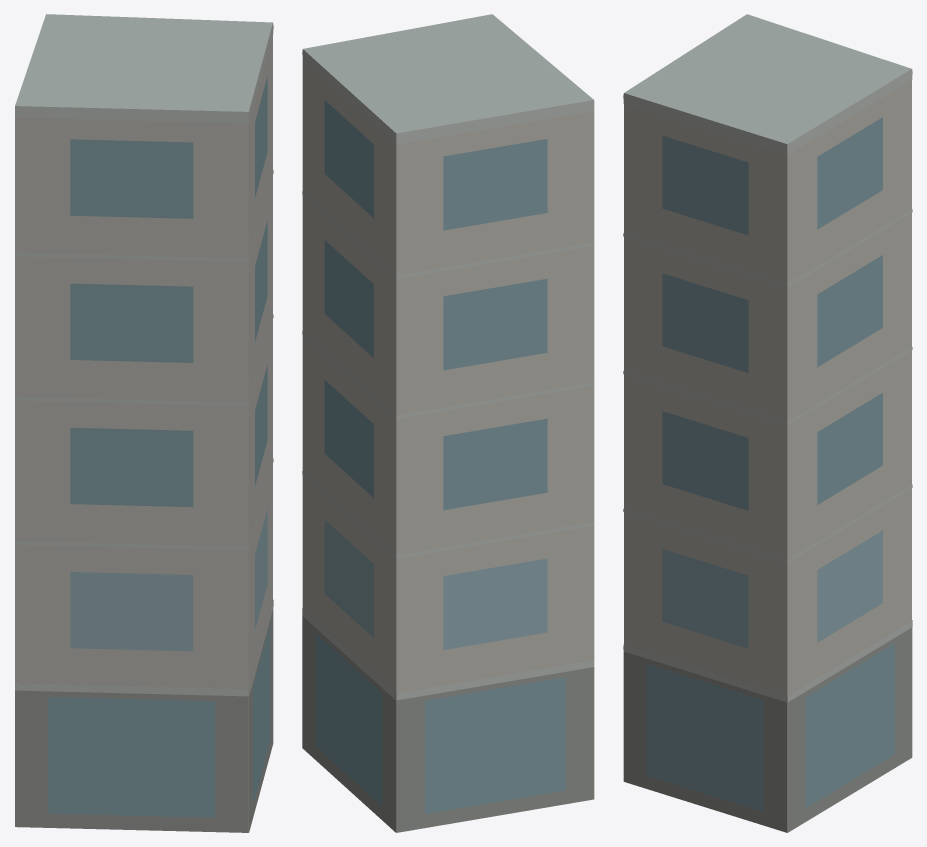
Rendered from survey-upis-33006595.glb.
3 renders of one model, left to right at view 1: azimuth 30°, elevation 25°; view 2: azimuth 150°, elevation 25°; view 3: azimuth 270°, elevation 25°, orthographic. The views are drawn at different scales.
Visible parts, largest first — view 1: survey-upis-33006595.tmp; view 2: survey-upis-33006595.tmp; view 3: survey-upis-33006595.tmp.
Boxes of the visible parts, x1=… form: survey-upis-33006595.tmp: x1=15, y1=14, x2=273, y2=832; survey-upis-33006595.tmp: x1=302, y1=14, x2=594, y2=832; survey-upis-33006595.tmp: x1=623, y1=14, x2=912, y2=832.
Bounding box in the file's own units: 6.2 × 15.25 × 5.81.
